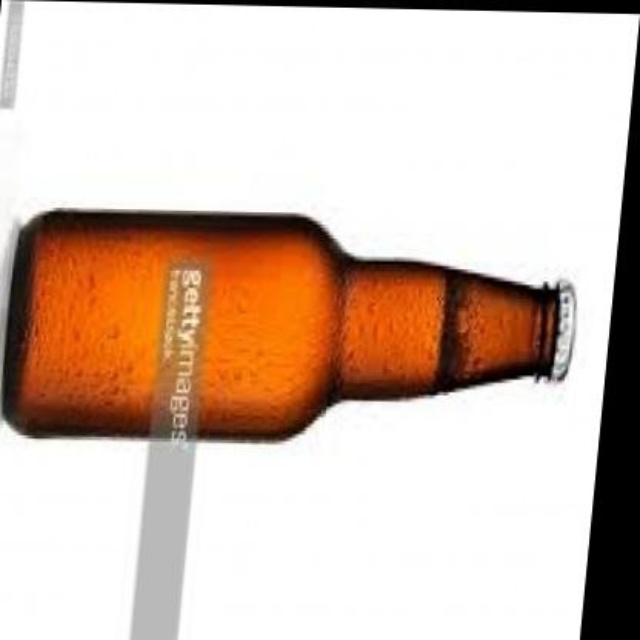trash: (3, 211, 574, 438)
